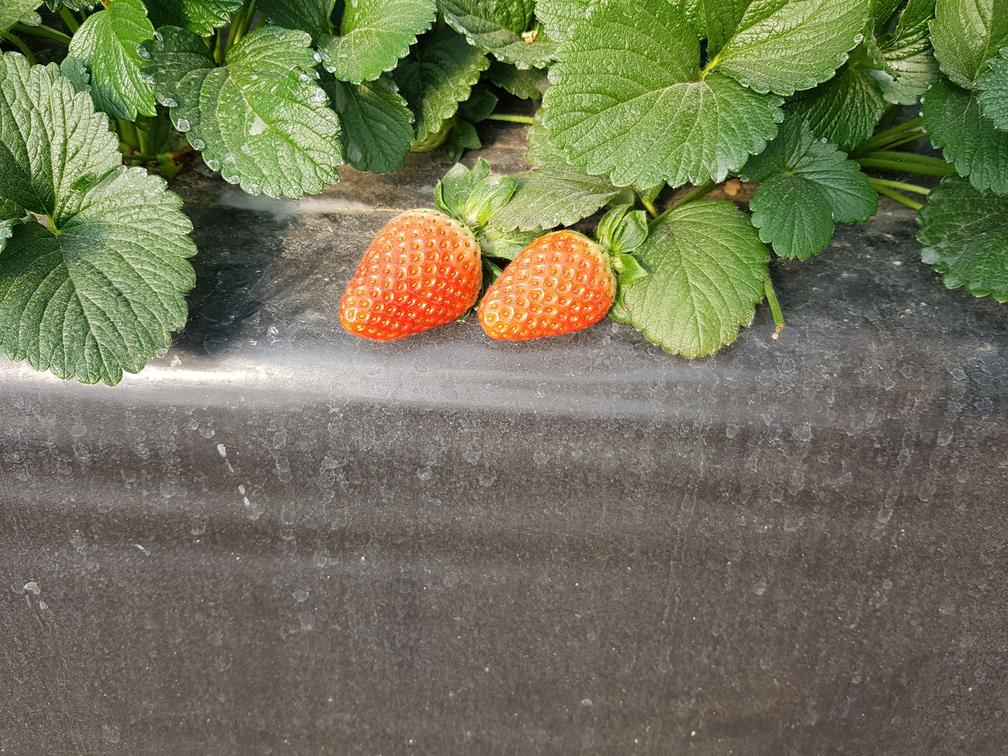Ripe: (331, 200, 483, 344), (482, 225, 624, 350)
